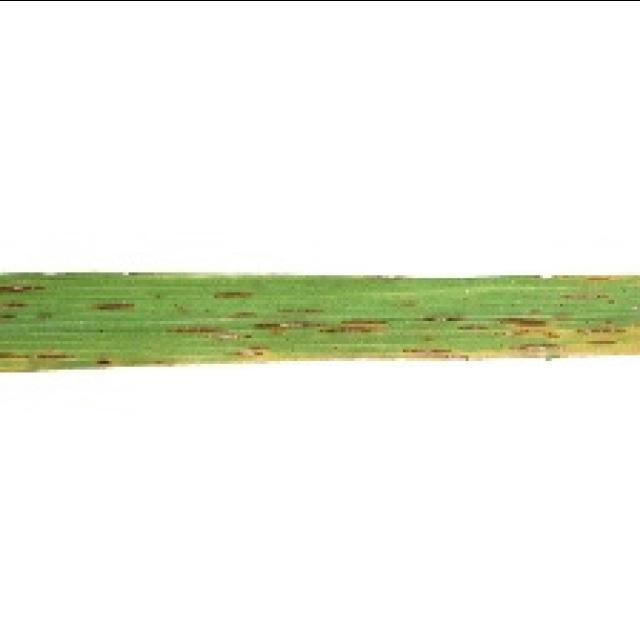Unhealthy: (255, 318, 387, 334), (498, 316, 562, 339), (169, 324, 251, 340), (560, 289, 621, 306), (400, 348, 469, 360), (507, 343, 564, 356), (232, 345, 269, 363), (573, 327, 626, 339), (213, 288, 255, 299), (0, 284, 45, 294), (34, 349, 74, 360), (585, 337, 623, 348), (224, 309, 257, 320), (92, 302, 136, 310), (276, 306, 323, 313), (422, 315, 464, 322), (0, 351, 30, 360), (459, 324, 488, 333), (0, 299, 26, 309), (586, 275, 614, 284), (93, 356, 115, 367), (599, 315, 619, 325), (555, 312, 571, 321)
